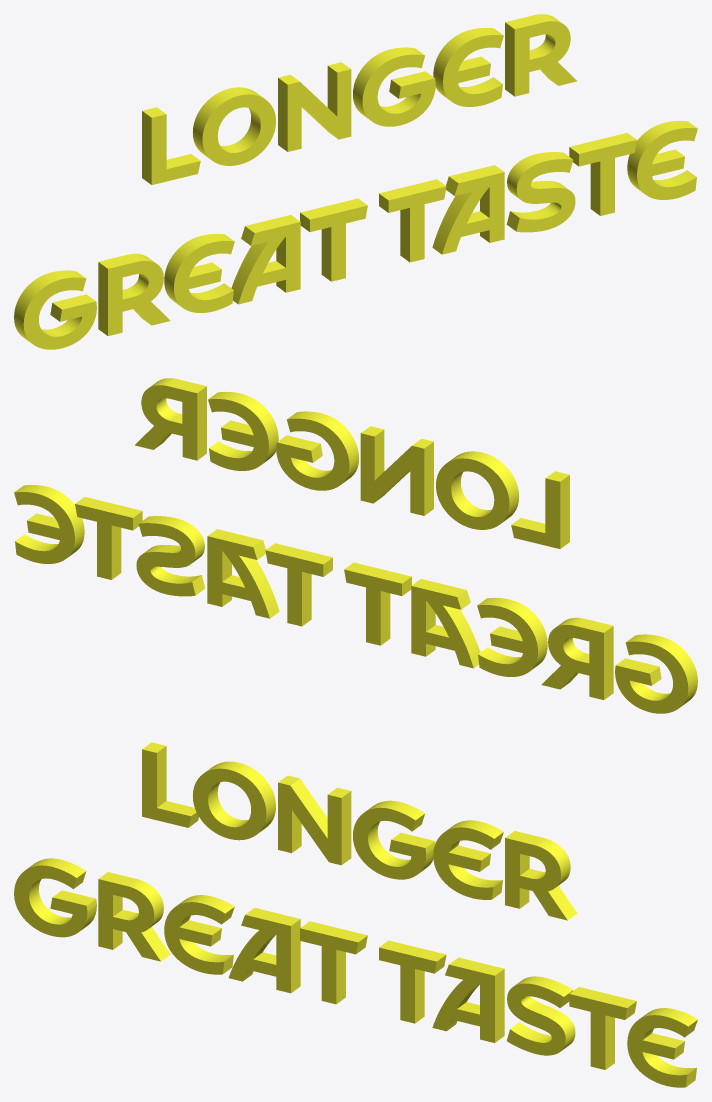
3 renders of one model, top to bottom at view 1: azimuth 30°, elevation 25°; view 2: azimuth 150°, elevation 25°; view 3: azimuth 330°, elevation 25°, orthographic.
Visible parts, largest first — view 1: typeMesh1; view 2: typeMesh1; view 3: typeMesh1.
Part boxes in pixels (<box>): typeMesh1: <box>14,14,697,349</box>; typeMesh1: <box>14,378,697,713</box>; typeMesh1: <box>14,742,697,1087</box>.
Bounding box in the file's own units: 101 × 29.86 × 2.5.
